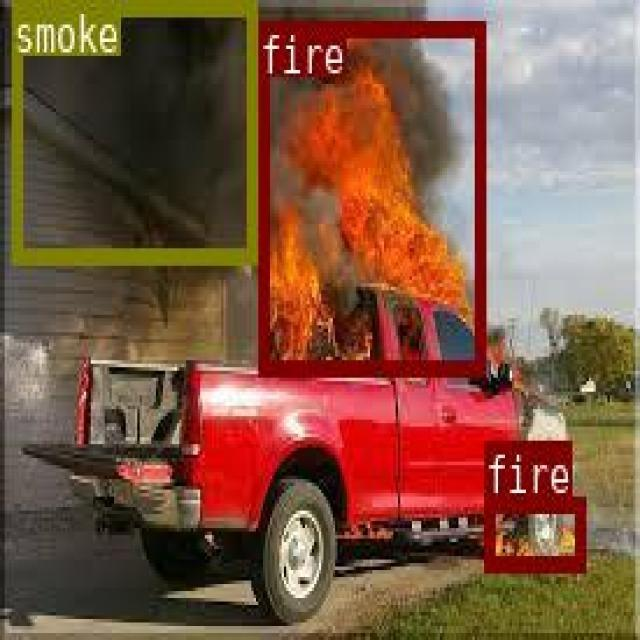fire: (258, 20, 484, 373), (483, 495, 582, 568)
smoke: (9, 0, 256, 259)
